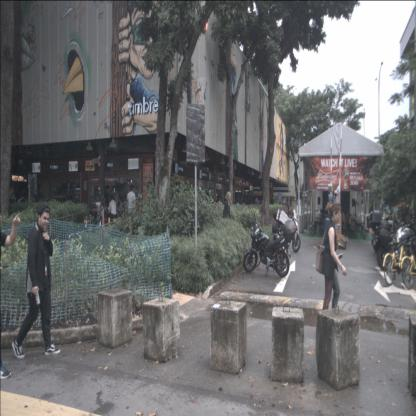human-pedestrian-adult: (12, 206, 60, 359), (315, 202, 347, 327), (0, 211, 21, 379), (127, 184, 136, 237), (223, 191, 231, 243), (107, 195, 117, 227), (116, 196, 124, 224), (216, 190, 223, 221), (104, 185, 110, 214), (254, 196, 259, 216), (217, 198, 222, 218), (340, 209, 345, 225), (317, 209, 322, 222)
vehicle-bicycle: (382, 240, 414, 285), (400, 235, 416, 288)
vehicle-motorcycle: (243, 221, 293, 277), (376, 214, 416, 270), (366, 207, 404, 258), (271, 210, 301, 253)
